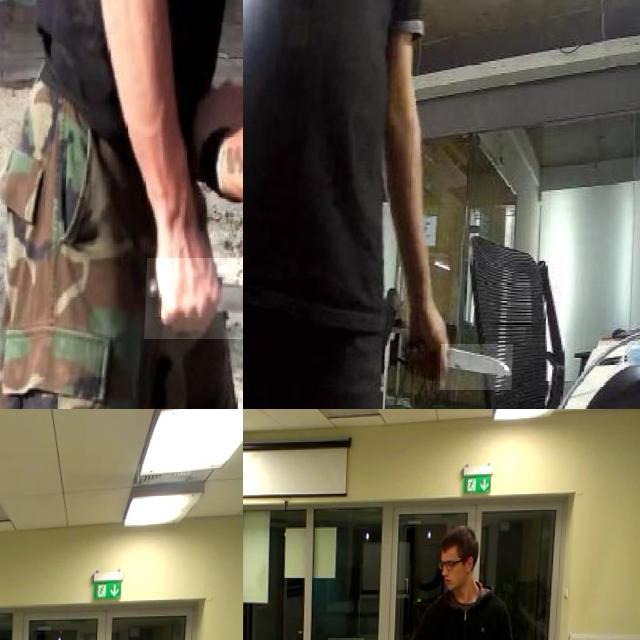-: (148, 258, 243, 339), (444, 344, 517, 390)
